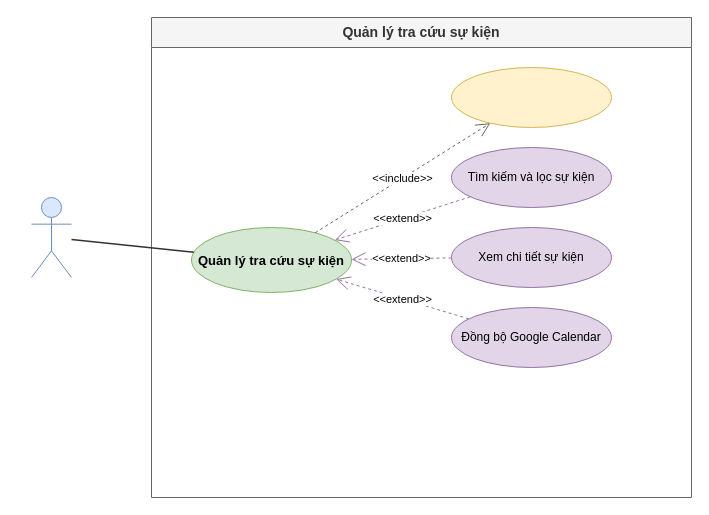
Some shapes in this 709 by 515 pixel diagram are drawn without their labels. The box of each missing label's shape, as (x1, y1, x2, y2) in pixels:
Khách hàng: (30, 196, 72, 278)
Xem danh sách sự kiện: (450, 66, 612, 128)
